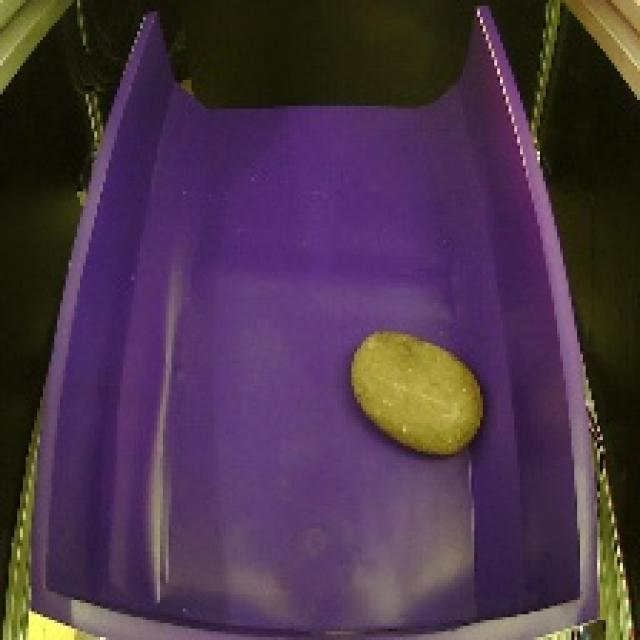cobbles: (344, 315, 496, 467)
